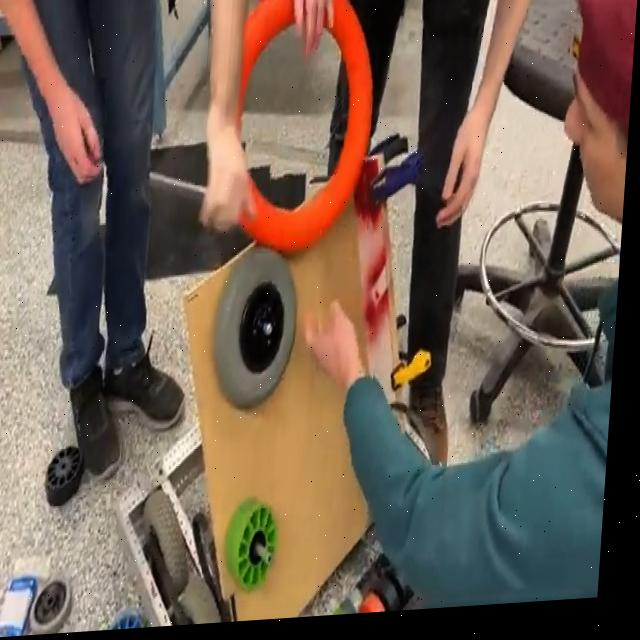note: (227, 0, 383, 265)
